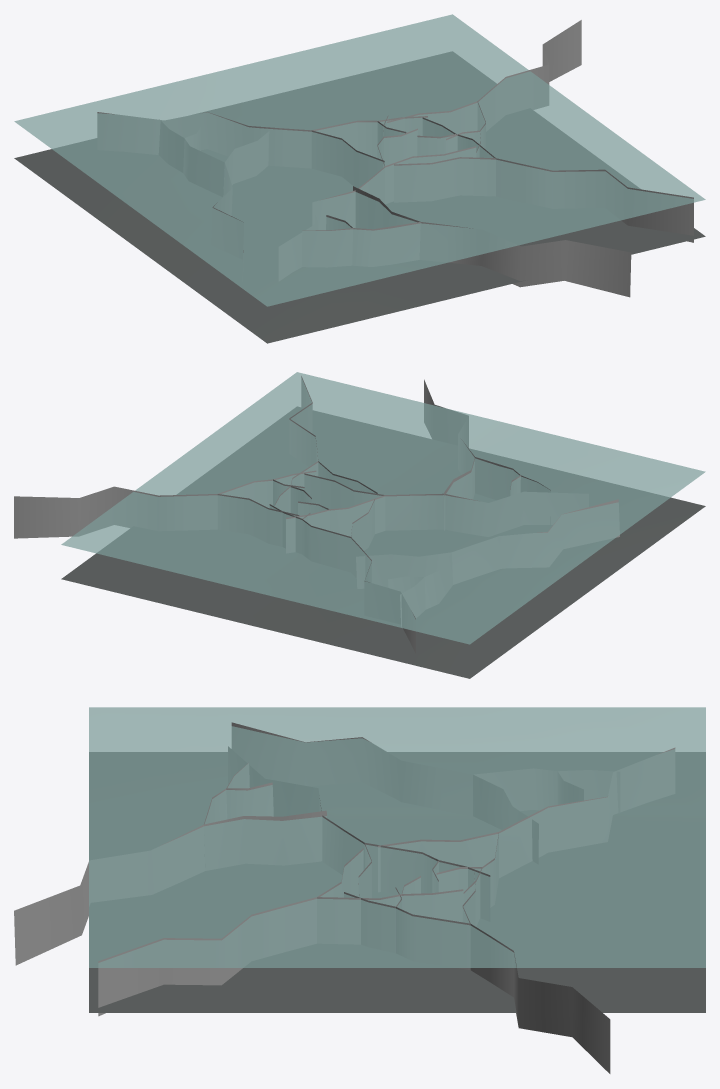
File: icelake222.fbx
3 renders of one model, top to bottom at view 1: azimuth 30°, elevation 25°; view 2: azimuth 150°, elevation 25°; view 3: azimuth 270°, elevation 25°, orthographic. The views are drawn at different scales.
Parts seen in each view (by area): view 1: icelake222; view 2: icelake222; view 3: icelake222.
Boxes of the visible parts, x1,y1,x2,y2 form: icelake222: (14,14,705,343); icelake222: (14,372,705,678); icelake222: (14,707,705,1073).
Bounding box in the file's own units: 3.61 × 0.3572 × 3.37.
